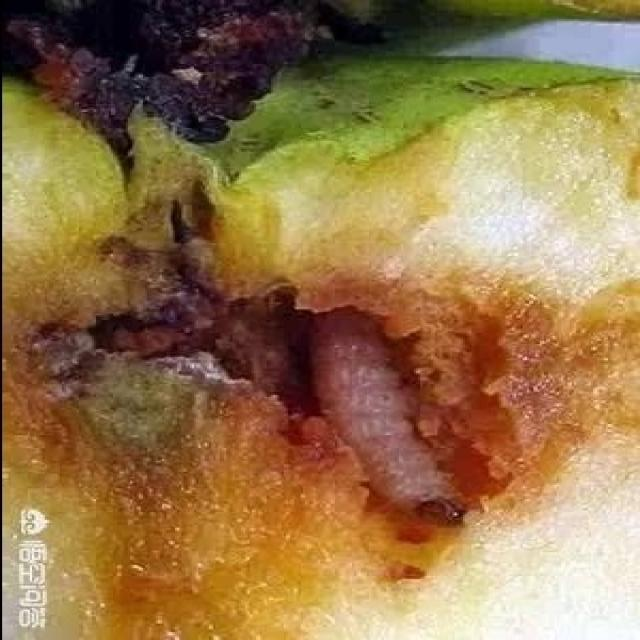peach borer: (312, 302, 462, 545)
